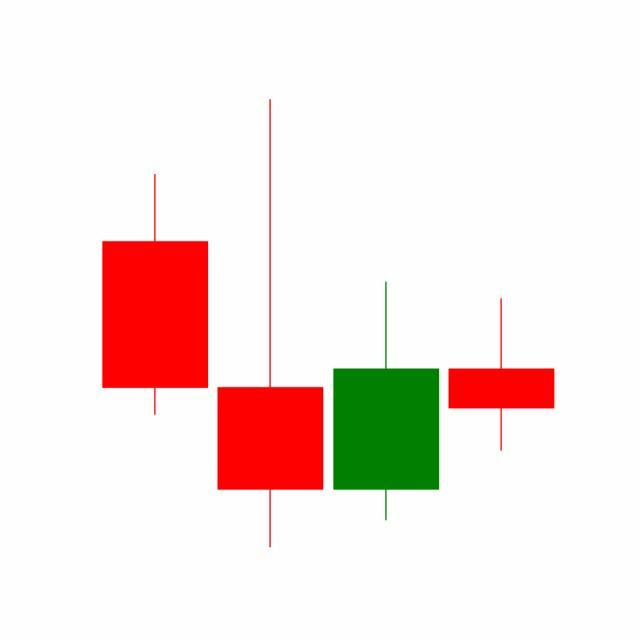Spinning Top: (444, 298, 560, 454)
